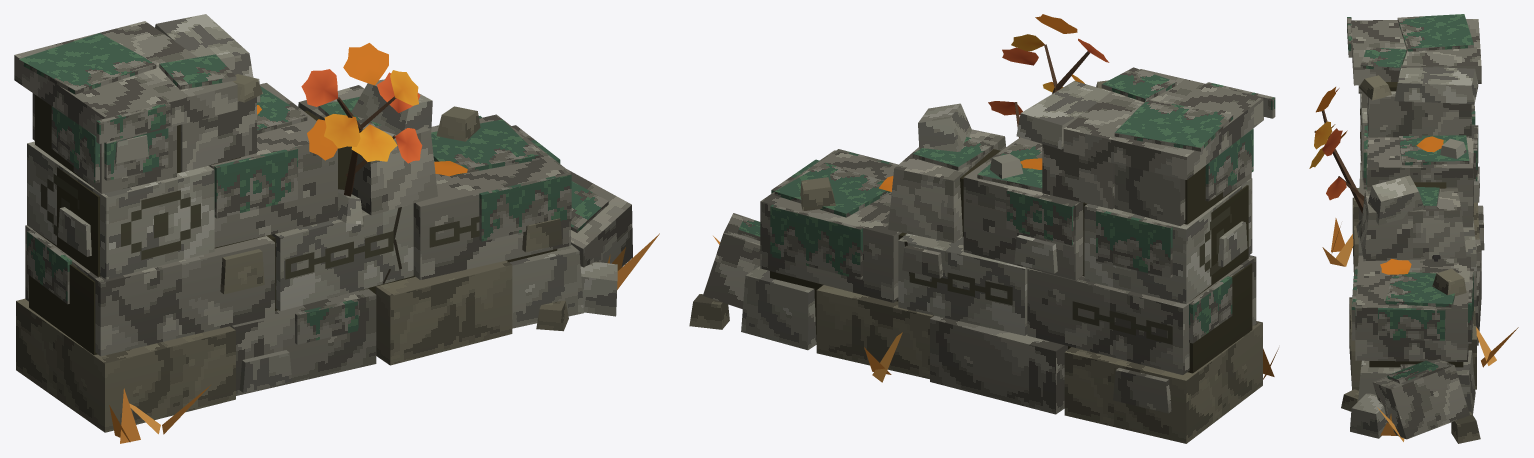
Rendered from fp_cover_stone.glb.
3 renders of one model, left to right at view 1: azimuth 30°, elevation 25°; view 2: azimuth 150°, elevation 25°; view 3: azimuth 270°, elevation 25°, orthographic. The views are drawn at different scales.
Visible parts, largest first — view 1: fp_cover_stone, deco_bush, deco_grass; view 2: fp_cover_stone, deco_bush, deco_grass; view 3: fp_cover_stone, deco_grass, deco_bush.
Part boxes in pixels (x1,y1,x2,y2): fp_cover_stone: [14, 14, 632, 432]; deco_bush: [301, 43, 422, 196]; deco_grass: [109, 105, 659, 443]; fp_cover_stone: [689, 67, 1275, 443]; deco_bush: [988, 14, 1109, 137]; deco_grass: [713, 158, 1278, 382]; fp_cover_stone: [1341, 14, 1484, 443]; deco_grass: [1322, 136, 1518, 441]; deco_bush: [1309, 87, 1364, 213].
Size of the model in its own units: 2.92 by 1.64 by 1.25.
14 materials, 5 textured.
